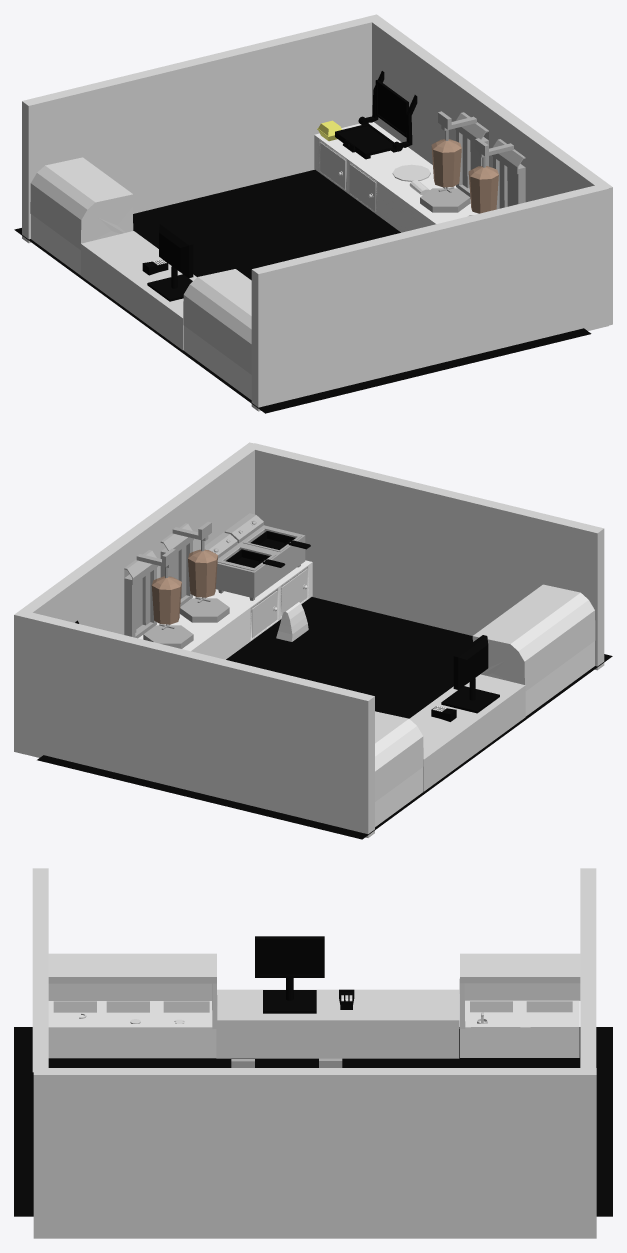
File: Blocking_local.fbx
3 renders of one model, top to bottom at view 1: azimuth 30°, elevation 25°; view 2: azimuth 150°, elevation 25°; view 3: azimuth 270°, elevation 25°, orthographic. The views are drawn at different scales.
Parts seen in each view (by area): view 1: Pared.001, Pared.002, Suelo, Pared.003, Espejo.001, Mesa, Empacar_mesa, Espejo, Maquina_kebab.001, pantalla.001, Maquina_kebab_1, Arriba_plancha.001 (+7 smaller); view 2: Pared.002, Pared.001, Suelo, Pared.003, Espejo, Mesa, freidora.001, Empacar_mesa, Maquina_kebab.001, Espejo.001, Maquina_kebab_1, pantalla.001 (+8 smaller); view 3: Pared.003, Mesa, Suelo, Bandeja__2_, Espejo, Bandeja__2_.001, Espejo.001, pantalla.001, Pared.001, Pared.002.
Boxes of the visible parts, box(x1,y1,x2,y2) form: Pared.001: box(251, 184, 608, 411); Pared.002: box(22, 16, 378, 243); Suelo: box(14, 169, 591, 413); Pared.003: box(365, 14, 612, 325); Espejo.001: box(30, 157, 133, 250); Mesa: box(81, 231, 197, 350); Empacar_mesa: box(314, 122, 478, 232); Espejo: box(183, 269, 251, 374); Maquina_kebab.001: box(420, 111, 488, 212); pantalla.001: box(147, 223, 193, 301); Maquina_kebab_1: box(468, 138, 525, 216); Arriba_plancha.001: box(358, 71, 417, 151); Pared.002: box(19, 611, 374, 837); Pared.001: box(248, 443, 604, 670); Suelo: box(37, 597, 612, 839); Pared.003: box(14, 442, 257, 754); Espejo: box(472, 584, 595, 690); Mesa: box(409, 674, 525, 791); freidora.001: box(200, 513, 305, 600); Empacar_mesa: box(138, 560, 312, 659); Maquina_kebab.001: box(124, 548, 193, 648); Espejo.001: box(375, 711, 423, 801); Maquina_kebab_1: box(160, 521, 229, 622); pantalla.001: box(441, 635, 499, 713); Pared.003: box(33, 1068, 596, 1238); Mesa: box(216, 989, 459, 1058); Suelo: box(14, 1027, 612, 1216); Bandeja__2_: box(48, 1001, 216, 1058); Espejo: box(48, 953, 217, 1028); Bandeja__2_.001: box(460, 1000, 579, 1057); Espejo.001: box(459, 953, 580, 1028); pantalla.001: box(255, 936, 324, 1013); Pared.001: box(32, 868, 48, 1072); Pared.002: box(580, 868, 596, 1072).
Bounding box in the file's own units: 1636 × 603 × 2000.
